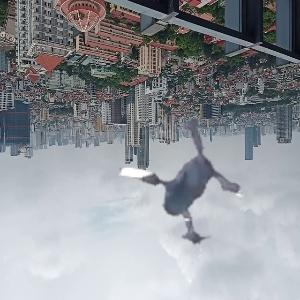drone: (64, 75, 264, 275)
